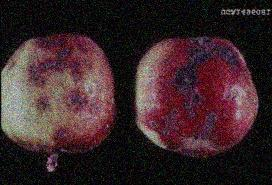rotten apple: (134, 35, 260, 158), (2, 29, 115, 155)
